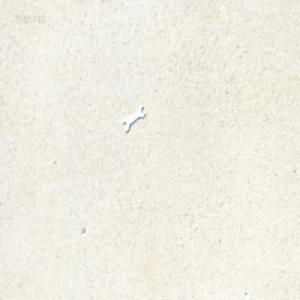Wrench: (126, 103, 148, 132)
